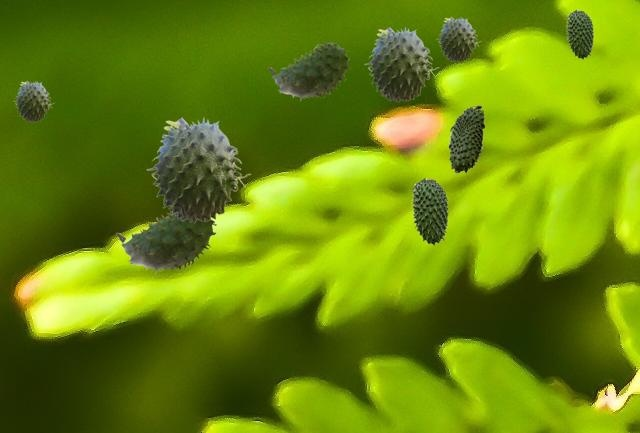guyabano: (146, 116, 250, 222), (116, 211, 215, 273), (364, 26, 438, 101), (268, 42, 349, 100), (411, 177, 448, 244), (448, 105, 484, 172), (436, 16, 480, 61), (13, 80, 53, 121), (566, 9, 593, 58)
